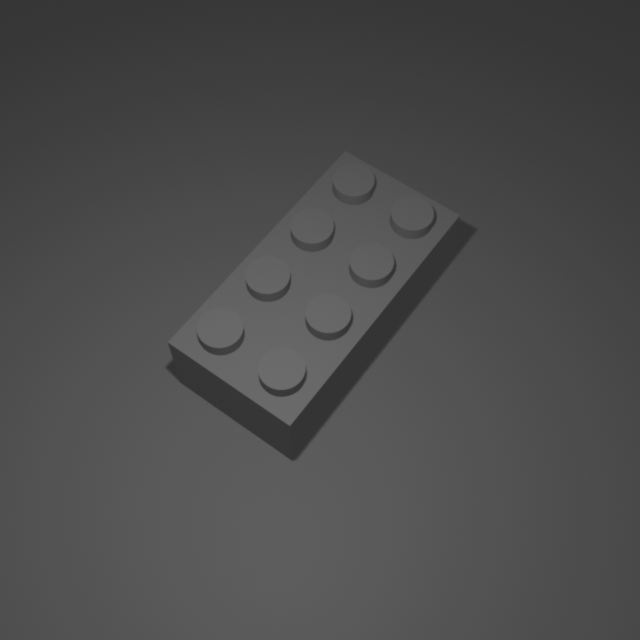lego_2x4: (165, 142, 462, 461)
